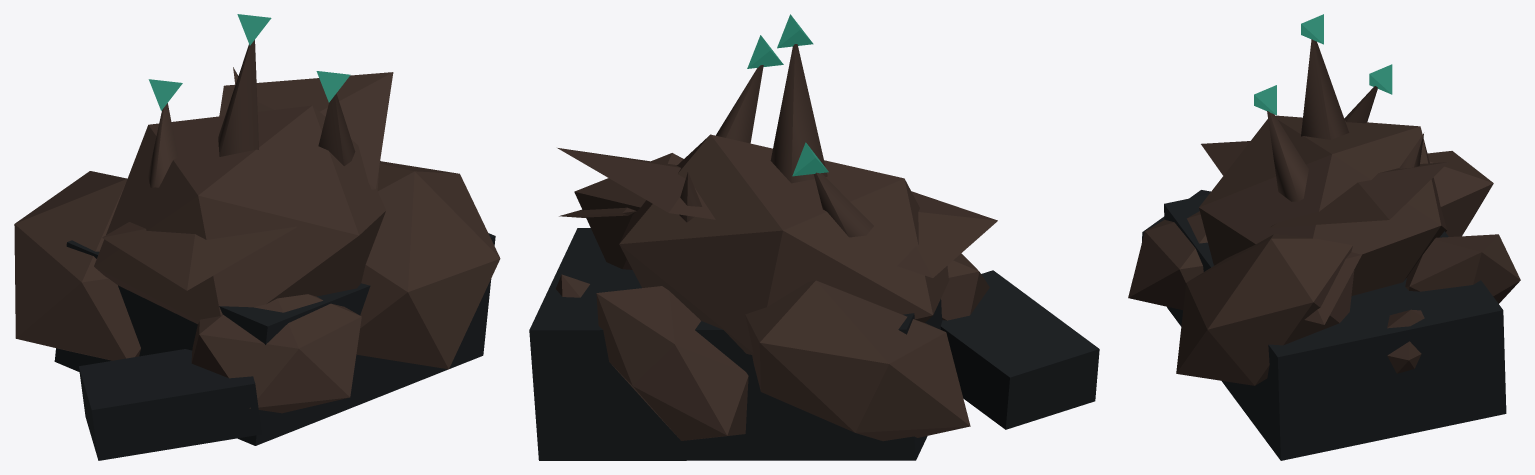
Rendered from env-coral-growth.glb.
3 views of the same model, side by side, from view 1: azimuth 30°, elevation 25°; view 2: azimuth 150°, elevation 25°; view 3: azimuth 270°, elevation 25° (orthographic). The views are drawn at different scales.
Parts seen in each view (by area): view 1: lobe_01, lobe_02, lobe_03, masonry_lip, lobe_05, masonry_block, plate_01, plate_02, branch_01, branch_02, branch_03, biolight_2 (+2 smaller); view 2: lobe_01, masonry_block, lobe_03, masonry_lip, lobe_04, plate_02, plate_01, branch_01, lobe_02, lobe_05, branch_03, branch_02 (+3 smaller); view 3: masonry_block, lobe_01, lobe_02, lobe_04, lobe_05, plate_01, lobe_03, branch_01, branch_02, lobe_06, plate_03, plate_02 (+4 smaller).
Boxes of the visible parts, box(x1,y1,x2,y2) form: lobe_01: box(94, 105, 385, 324); lobe_02: box(356, 161, 500, 369); lobe_03: box(14, 171, 140, 360); masonry_lip: box(79, 349, 261, 460); lobe_05: box(191, 294, 361, 413); masonry_block: box(54, 233, 495, 445); plate_01: box(219, 72, 393, 189); plate_02: box(102, 222, 297, 290); branch_01: box(218, 40, 258, 156); branch_02: box(318, 93, 355, 165); branch_03: box(148, 103, 178, 187); biolight_2: box(316, 71, 350, 102); lobe_01: box(619, 134, 949, 354); masonry_block: box(529, 228, 942, 460); lobe_03: box(745, 280, 970, 441); masonry_lip: box(940, 270, 1099, 429); lobe_04: box(596, 286, 748, 440); plate_02: box(897, 191, 997, 277); plate_01: box(557, 148, 715, 219); branch_01: box(770, 44, 827, 183); lobe_02: box(574, 153, 683, 269); lobe_05: box(941, 253, 989, 320); branch_03: box(814, 172, 873, 237); branch_02: box(716, 65, 763, 143); masonry_block: box(1164, 194, 1506, 460); lobe_01: box(1199, 115, 1446, 296); lobe_02: box(1176, 234, 1354, 385); lobe_04: box(1405, 234, 1520, 303); lobe_05: box(1128, 211, 1207, 310); plate_01: box(1270, 162, 1448, 227); lobe_03: box(1427, 151, 1493, 236); branch_01: box(1301, 39, 1349, 139); branch_02: box(1267, 111, 1308, 201); lobe_06: box(1387, 309, 1424, 373); plate_03: box(1304, 252, 1361, 324); plate_02: box(1201, 141, 1250, 175).
Bounding box in the file's own units: 12 × 9.74 × 9.99.
